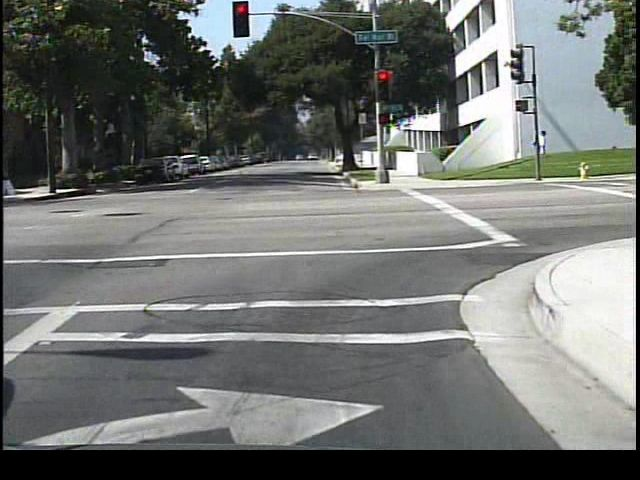person: (526, 127, 549, 175)
